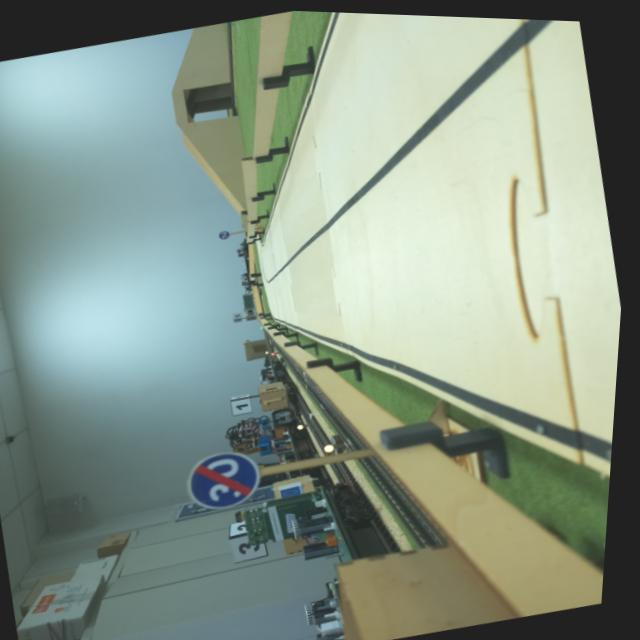panneau_fin30: (167, 424, 277, 523)
